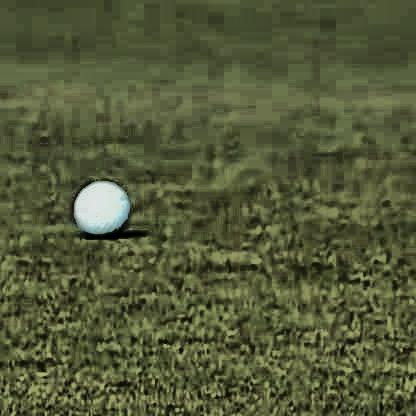golfball: (72, 173, 126, 232)
